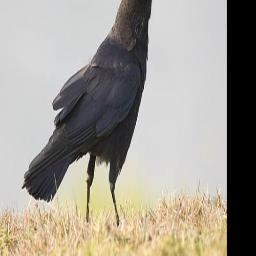Crow: (22, 0, 163, 228)
